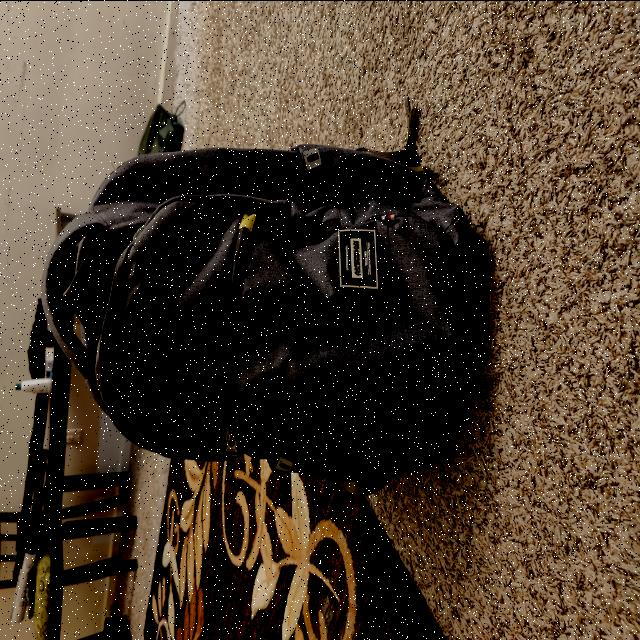bag: (54, 164, 480, 468)
